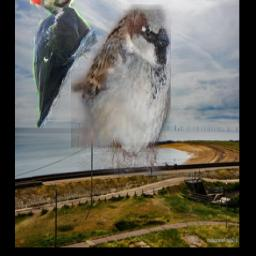Sparrow: (71, 4, 171, 176)
Woodpecker: (30, 0, 100, 129)
